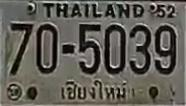0: (36, 23, 57, 73), (104, 24, 125, 73)
3: (129, 24, 150, 73)
5: (78, 23, 100, 73)
7: (10, 22, 32, 74)
9: (154, 24, 175, 74)
CMI: (56, 78, 129, 102)
